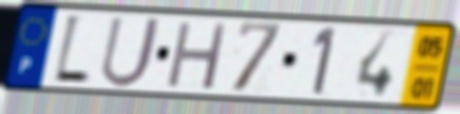1: (309, 25, 337, 98)
4: (353, 28, 398, 101)
7: (229, 20, 286, 97)
H: (164, 19, 232, 92)
L: (50, 11, 93, 88)
U: (97, 14, 165, 91)
